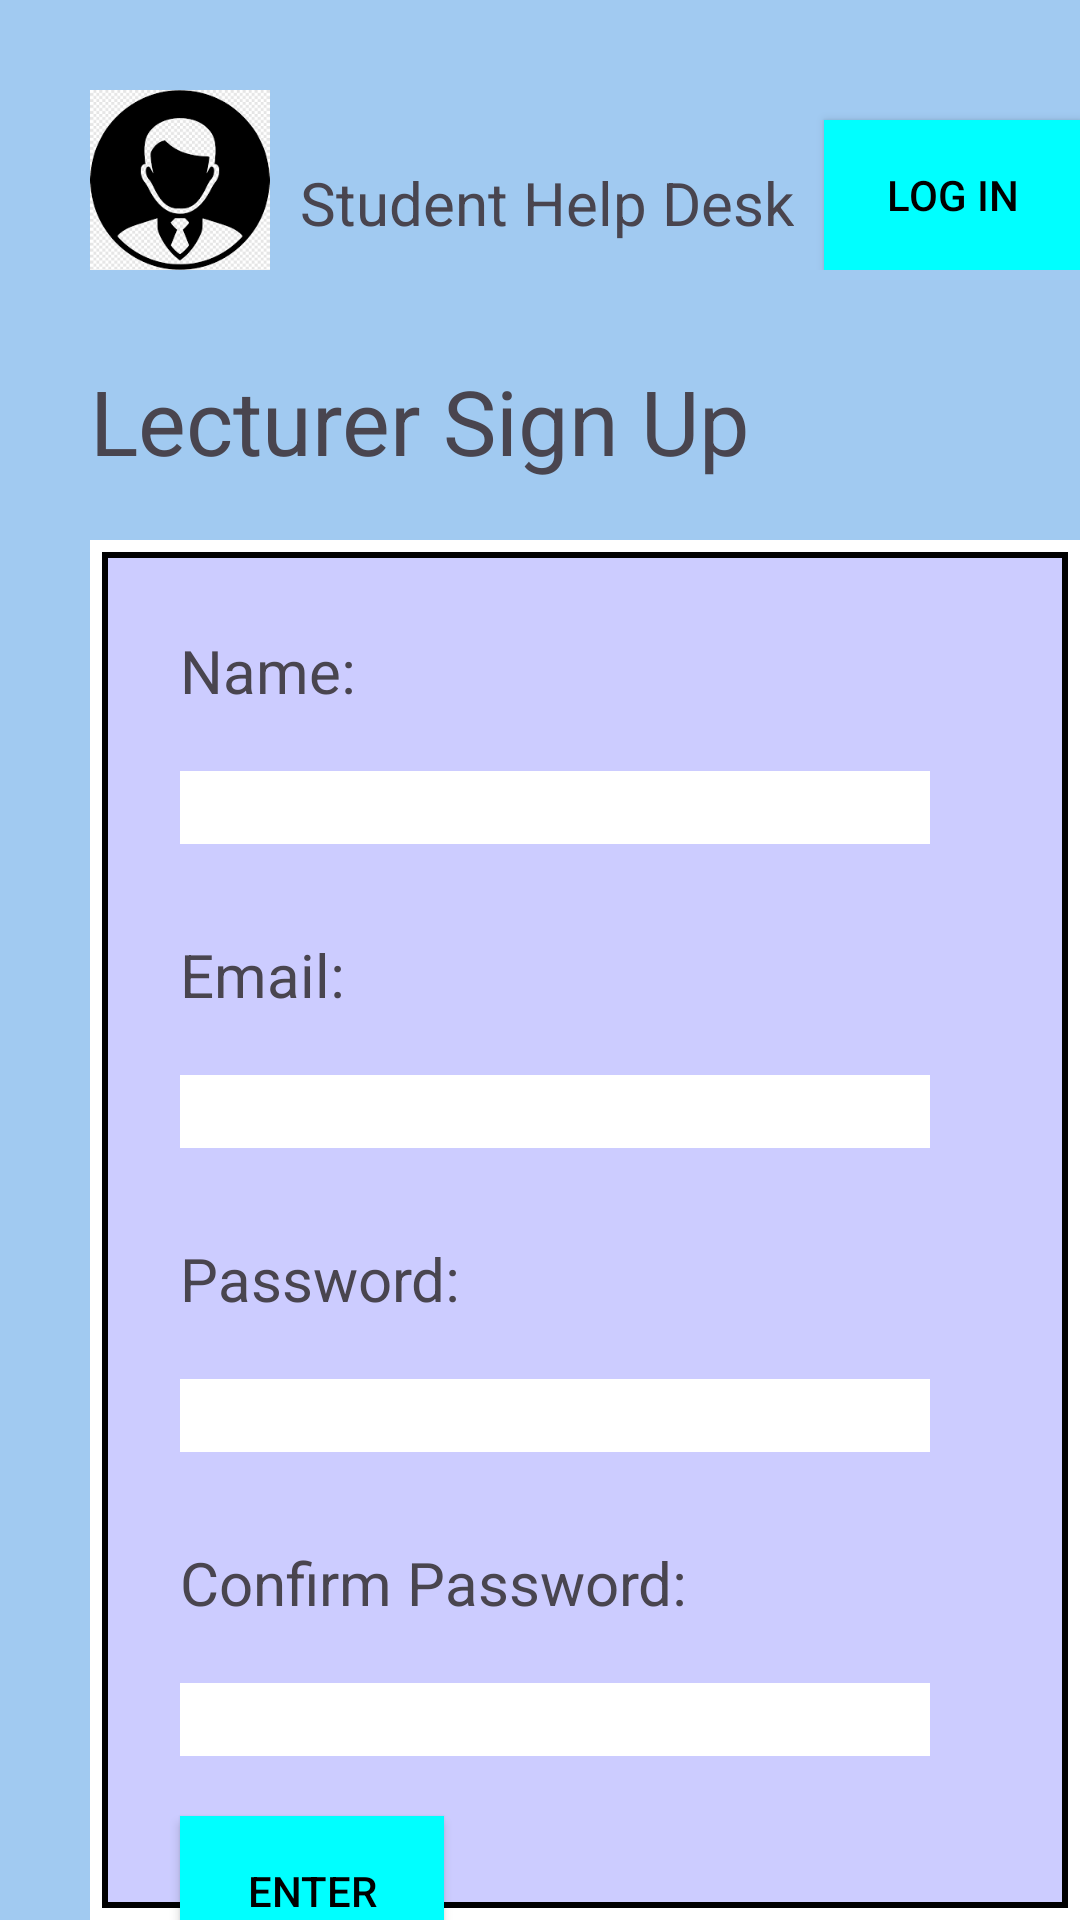

Icons on this 1080×1920 Android screen, each with the point to tap as (x=x, y=y):
profile: (x=180, y=180)
